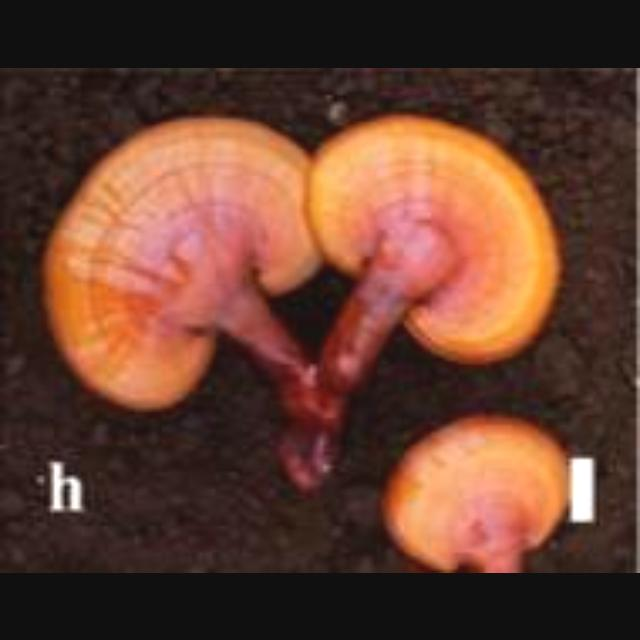ganoderma: (39, 109, 332, 418), (302, 111, 571, 370), (379, 409, 574, 574)
